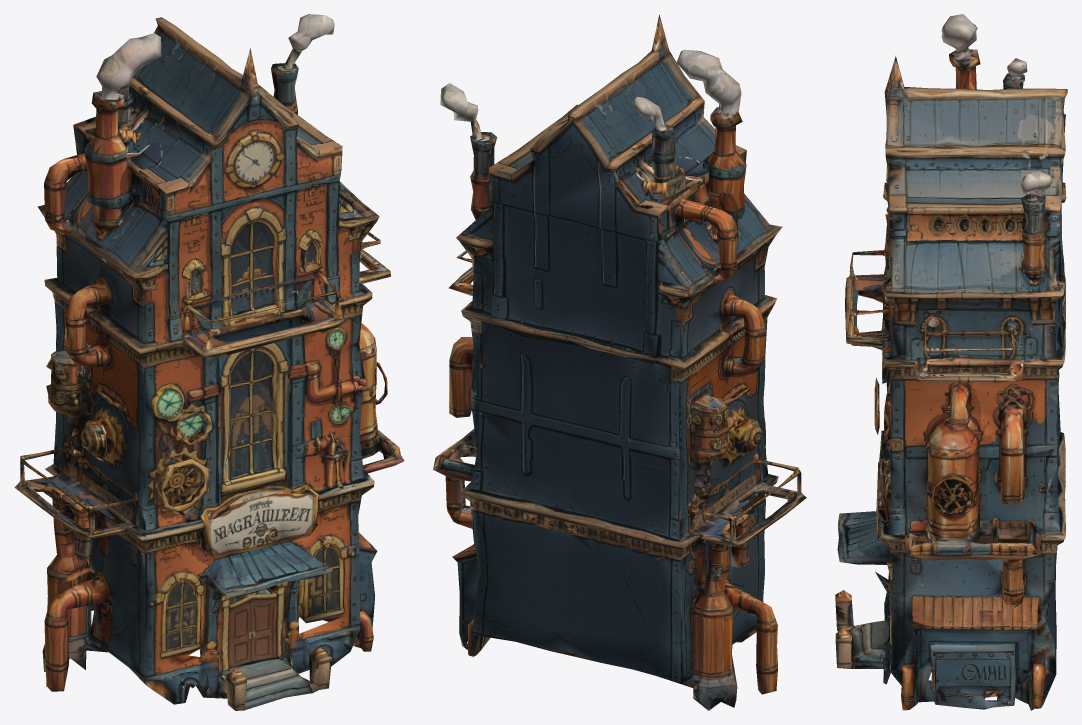
Rendered from Varco_BrassWorkshop.fbx.
3 renders of one model, left to right at view 1: azimuth 30°, elevation 25°; view 2: azimuth 150°, elevation 25°; view 3: azimuth 270°, elevation 25°, orthographic. The views are drawn at different scales.
Visible parts, largest first — view 1: texture_mapping; view 2: texture_mapping; view 3: texture_mapping.
Boxes of the visible parts, <box> form: texture_mapping: <box>14,14,404,710</box>; texture_mapping: <box>433,14,806,710</box>; texture_mapping: <box>835,14,1067,710</box>.
Size of the model in its own units: 0.5273 by 0.3509 by 0.9997.
1 material, 1 textured.
